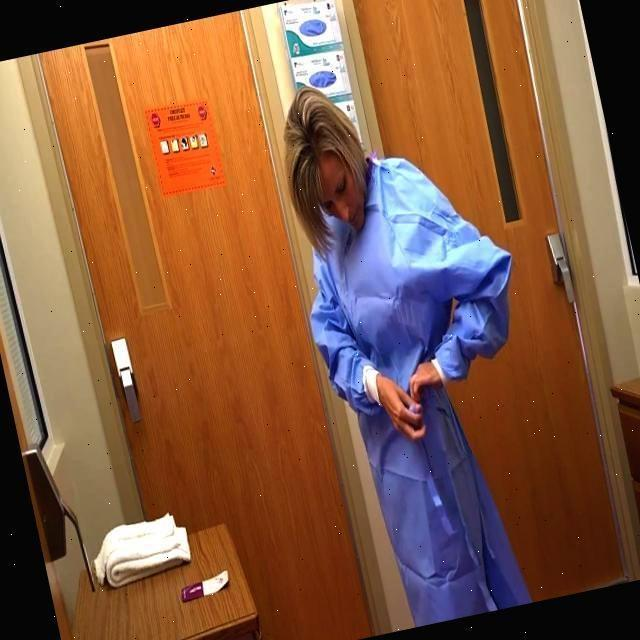no_gloves: (363, 374, 433, 436), (406, 344, 451, 404)
no_hairnet: (320, 190, 360, 230)
